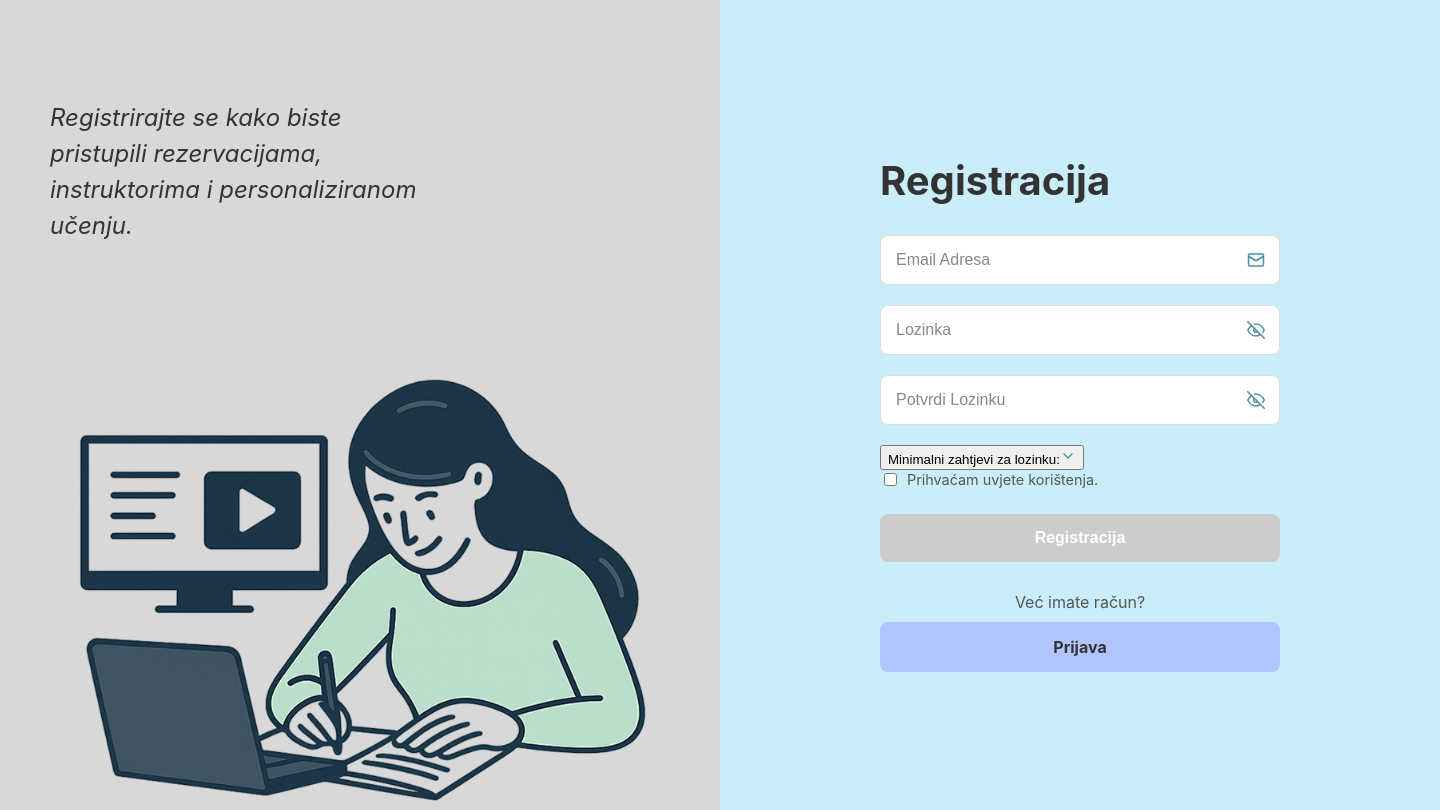
Test: RegisterEmail component › Test 3: Neuspjesna registracija: lozinka ne zadovoljava minimalne zahtjeve
Type "novi@test.com" into the field with placeholder "Email Adresa" at x=1080, y=260, box [880,235,1280,285]
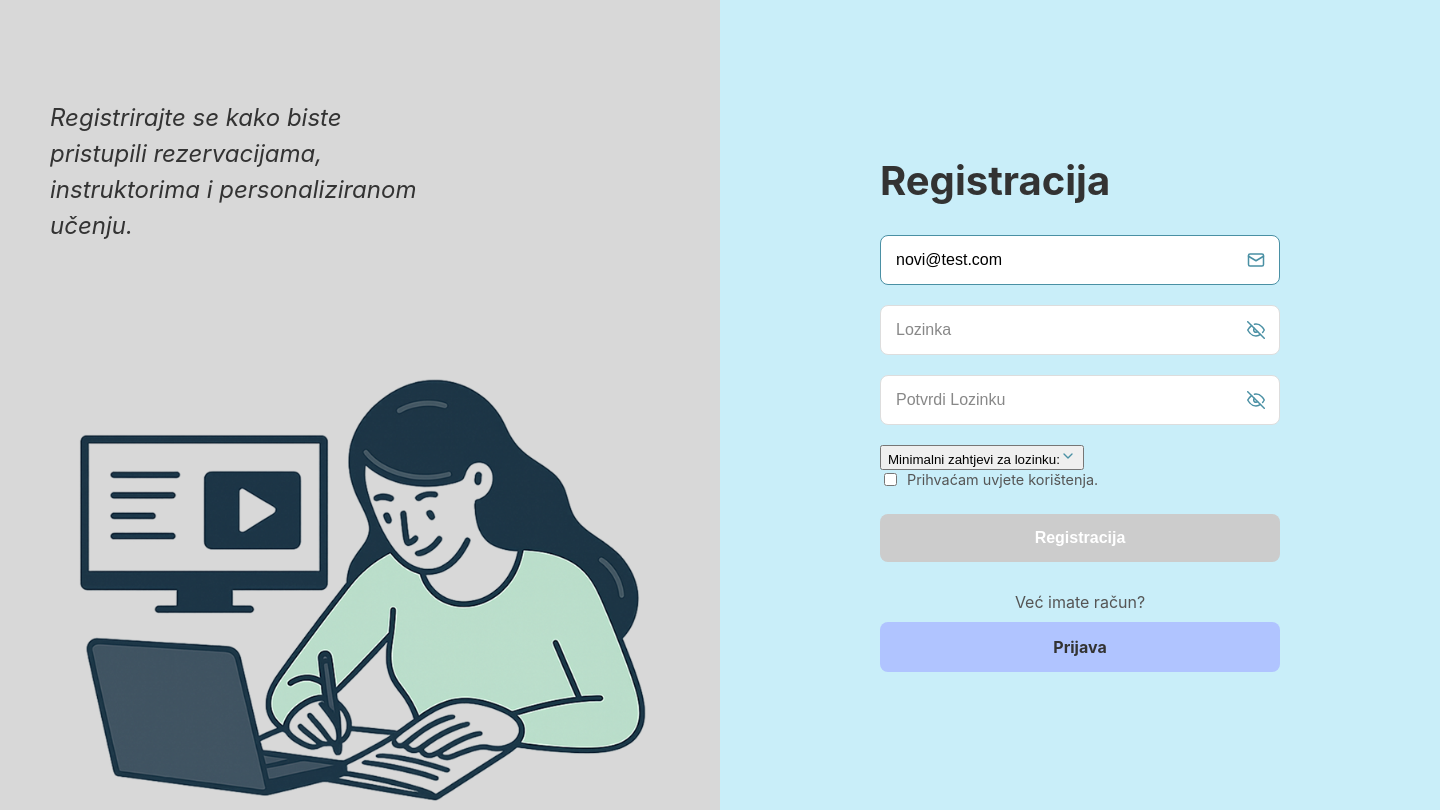
Type "weak" into the password field with placeholder "Lozinka" at x=1080, y=330, box [880,305,1280,355]
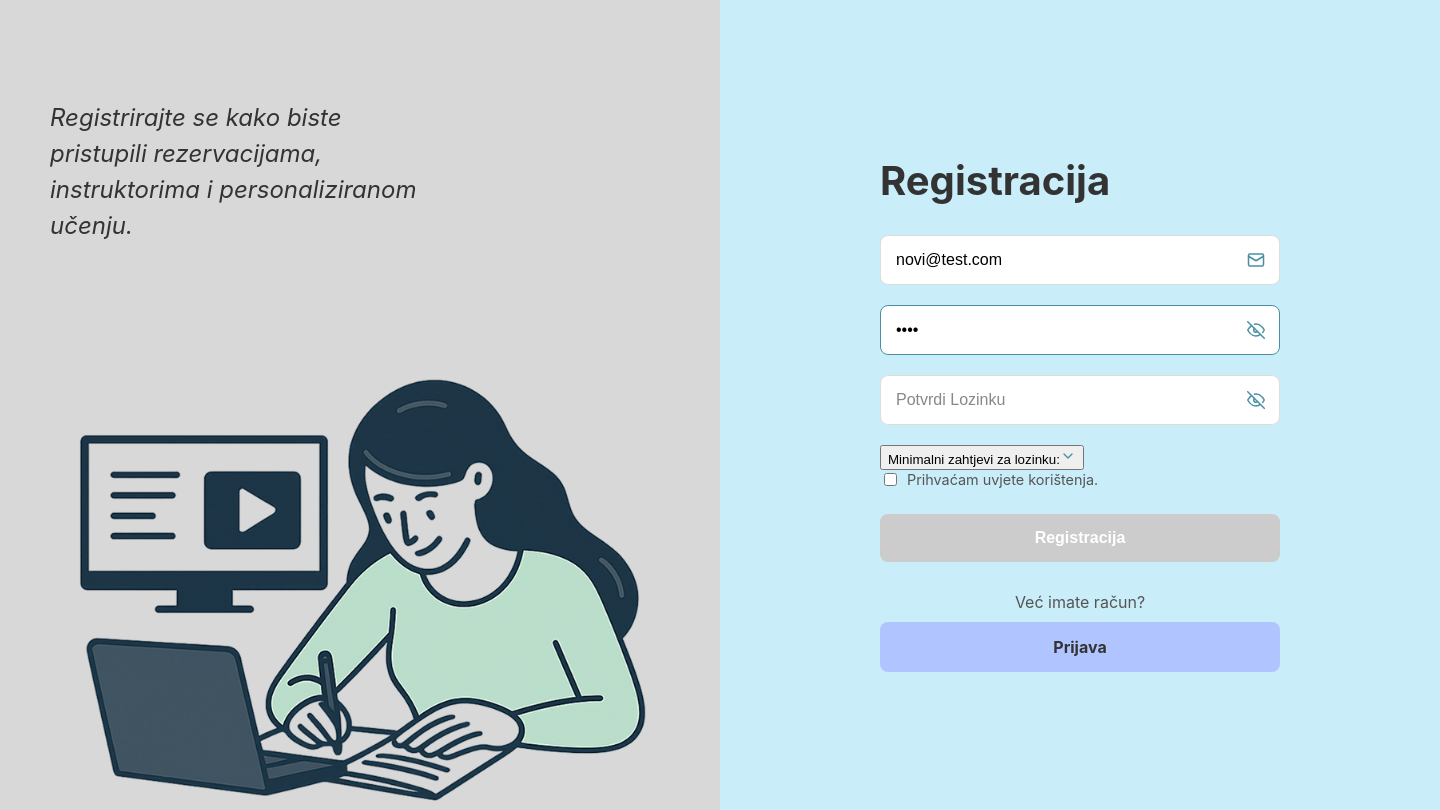
Type "weak" into the password field with placeholder "Potvrdi Lozinku" at x=1080, y=400, box [880,375,1280,425]
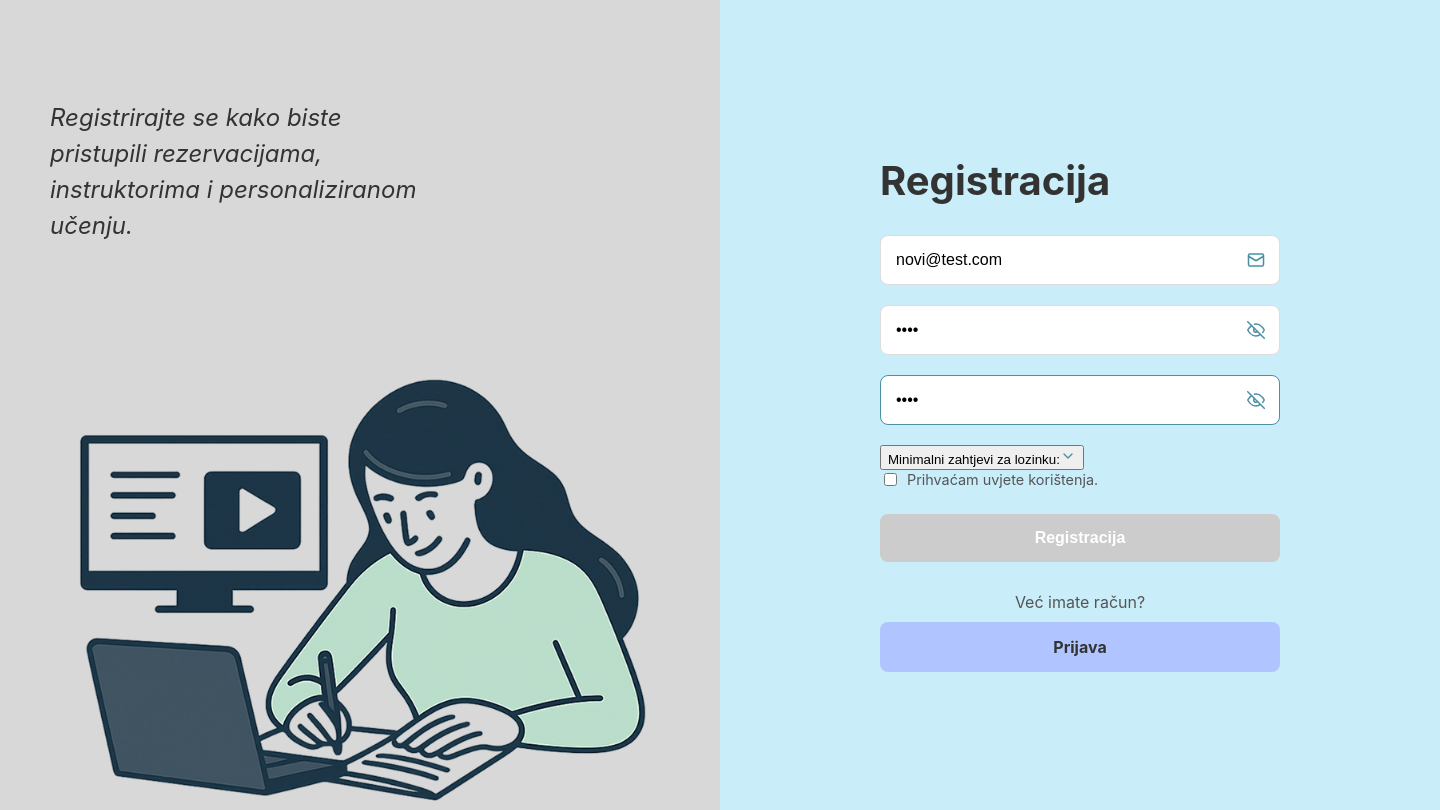
Click the checkbox labelled "Prihvaćam uvjete korištenja." at x=890, y=480, box [884,473,897,486]
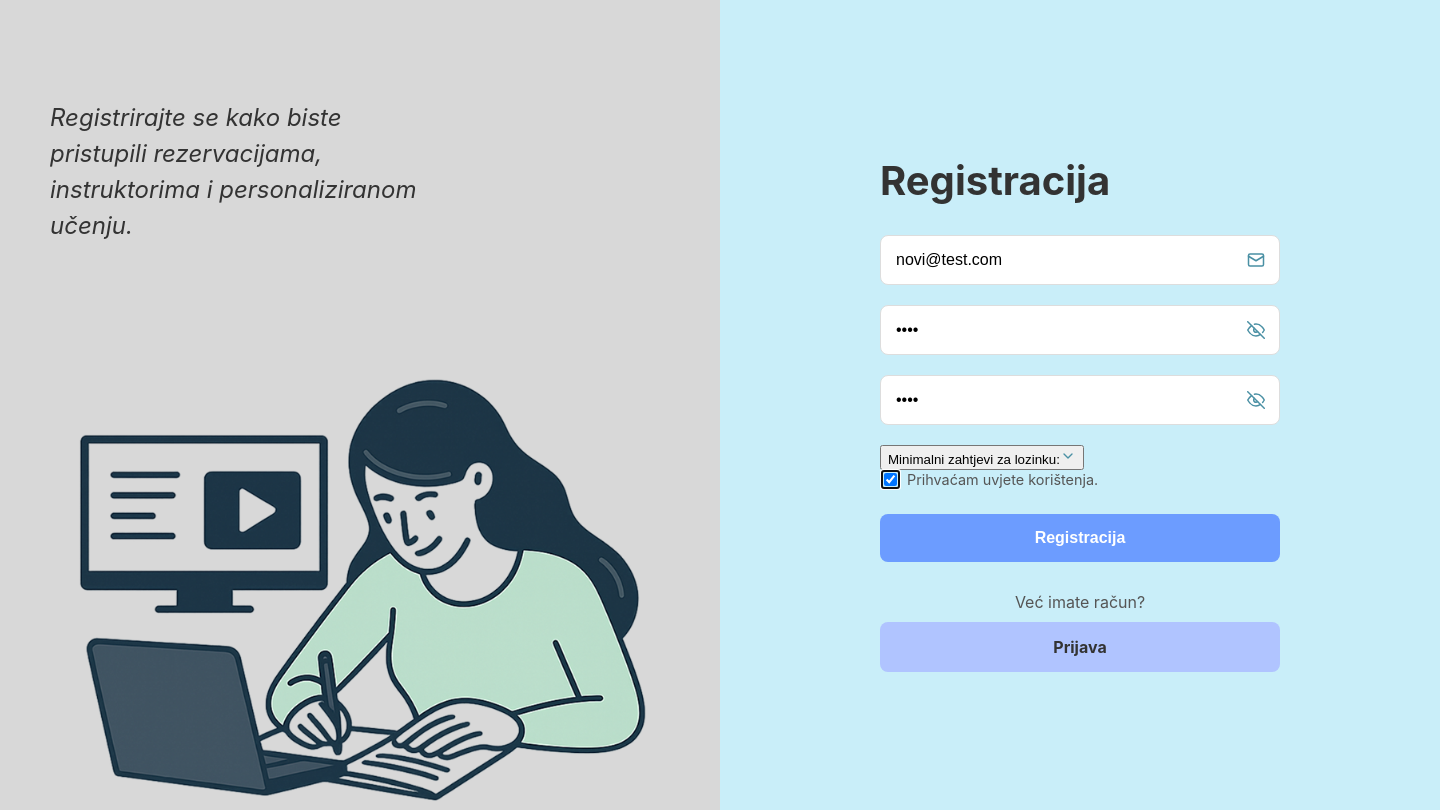
Click the button "Registracija" at x=1080, y=538, box [880,514,1280,562]
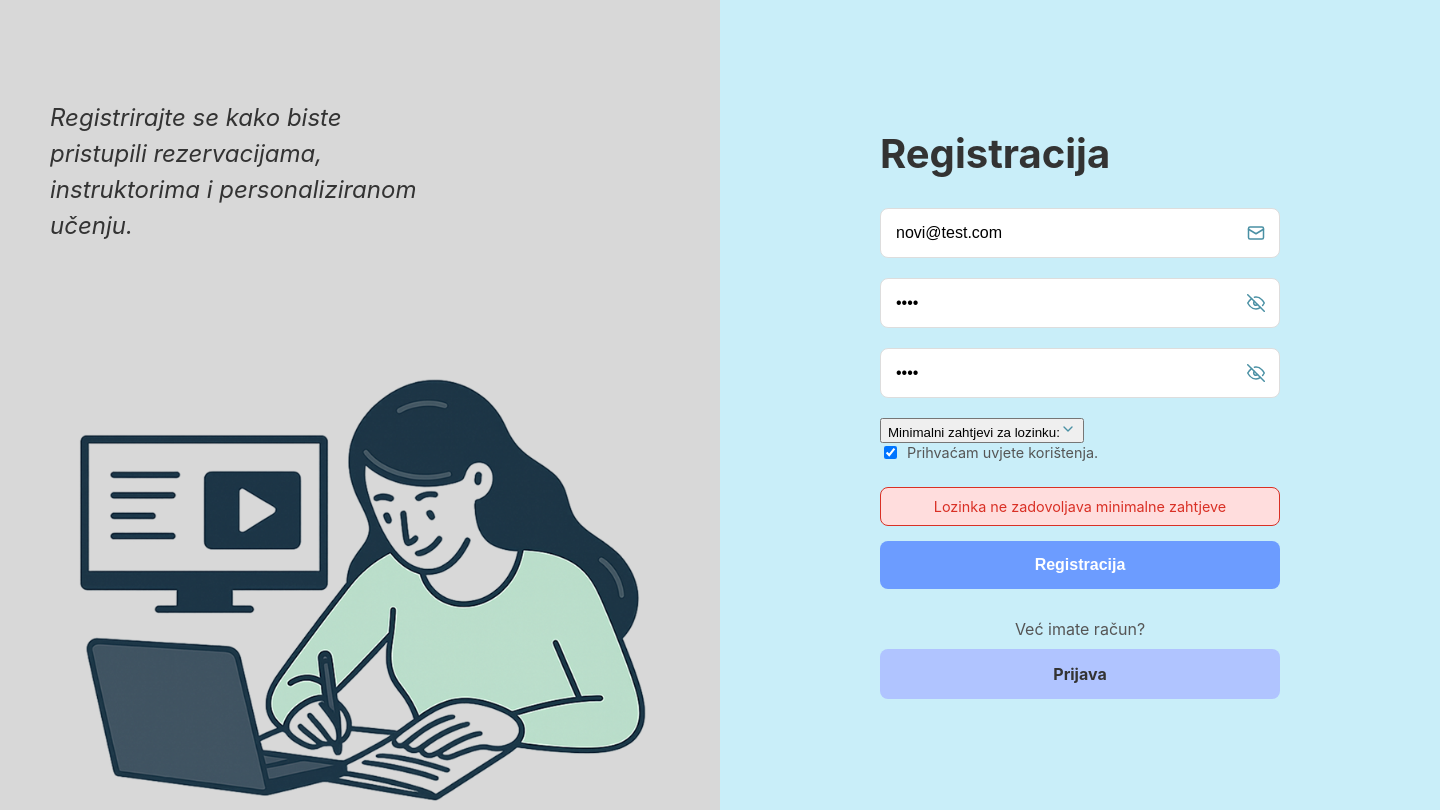
Check: the text "Lozinka ne zadovoljava minimalne zahtjeve" is shown, box [880,487,1280,526]
